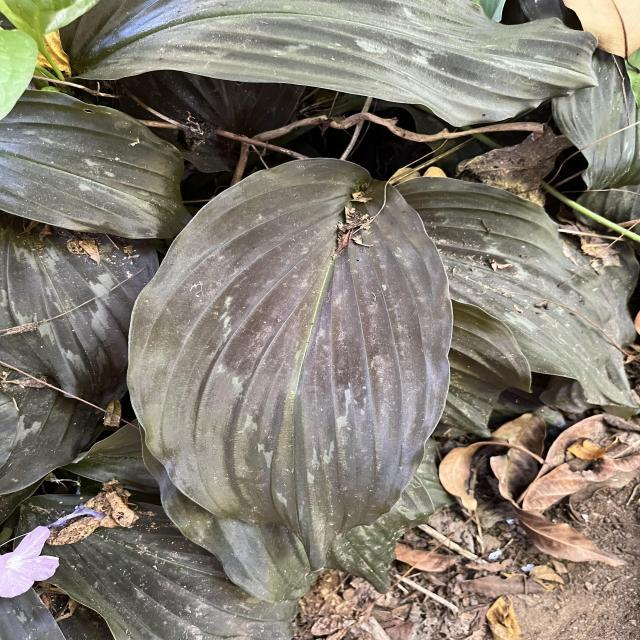Kaempferia galanga linn: (122, 153, 456, 576)
